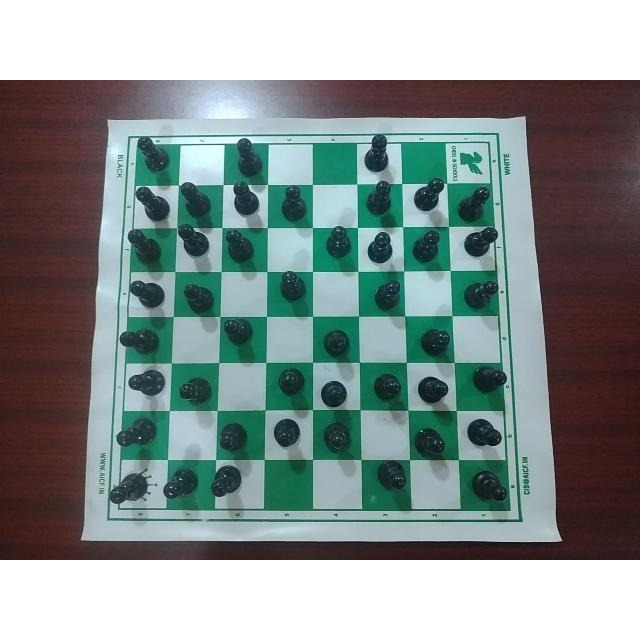black-pawn: (107, 466, 154, 508), (123, 226, 167, 265), (113, 417, 159, 453), (467, 466, 508, 505), (461, 417, 505, 453), (163, 467, 201, 507), (371, 459, 411, 497), (131, 135, 169, 173), (133, 185, 171, 223), (175, 374, 215, 410), (124, 368, 168, 400), (407, 177, 444, 215), (174, 221, 212, 258), (221, 226, 257, 265), (413, 370, 452, 406), (177, 179, 212, 219), (210, 464, 244, 505), (415, 325, 453, 361), (460, 227, 499, 262), (118, 325, 162, 356), (410, 228, 444, 268), (231, 136, 264, 177), (412, 425, 453, 458), (460, 278, 499, 312), (125, 277, 166, 309), (456, 185, 492, 221), (368, 277, 404, 313), (220, 316, 255, 353), (462, 365, 508, 393), (273, 186, 308, 222), (320, 324, 354, 361), (362, 133, 392, 174), (270, 417, 304, 453), (318, 420, 352, 456), (363, 179, 394, 218), (362, 230, 397, 264), (180, 281, 215, 315), (227, 181, 260, 217), (273, 271, 307, 305), (316, 374, 350, 407), (273, 367, 308, 399), (367, 370, 403, 401), (217, 420, 248, 456), (322, 225, 352, 261)
